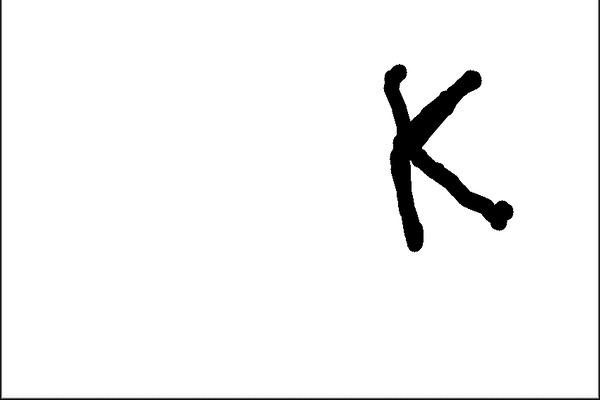K: (369, 56, 521, 259)
